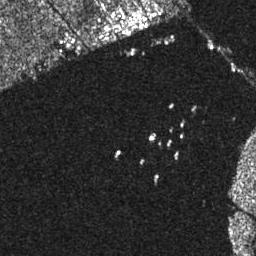ship: (147, 132, 157, 141), (113, 148, 121, 159), (154, 173, 159, 184), (174, 151, 180, 160), (169, 102, 175, 110), (139, 158, 146, 164), (167, 139, 172, 147), (179, 122, 185, 128)
